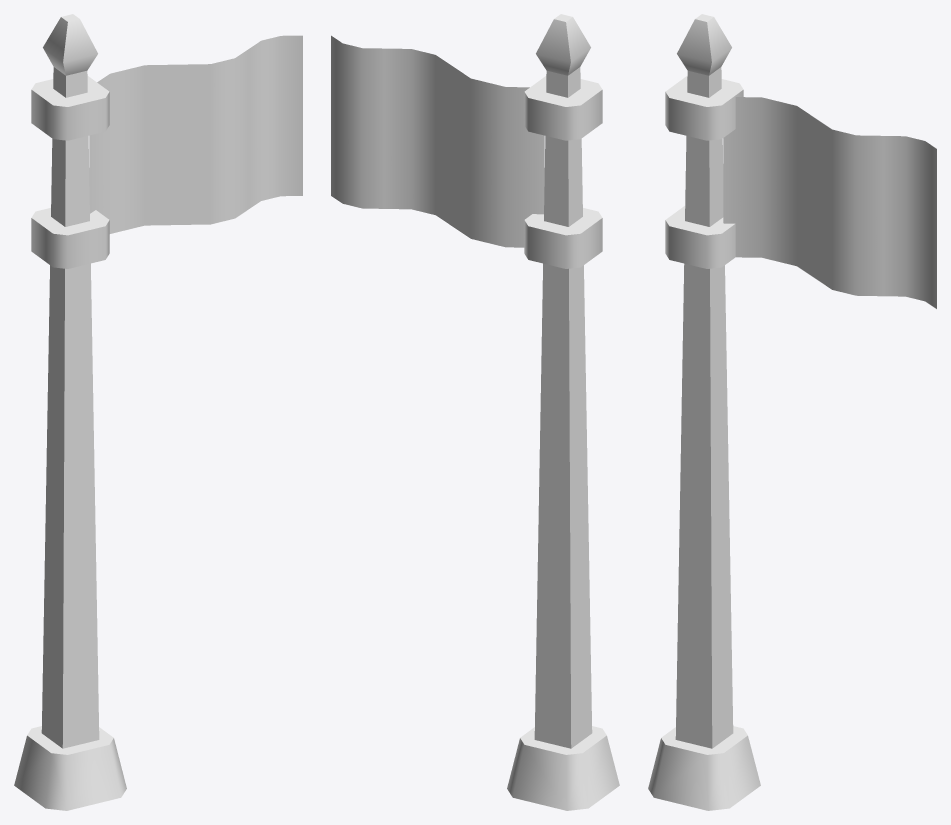
File: flag-high.glb
The picture shows the model from 3 angles, left to right: view 1: azimuth 30°, elevation 25°; view 2: azimuth 150°, elevation 25°; view 3: azimuth 330°, elevation 25°; orthographic projection.
Visible parts, largest first — view 1: flag-high; view 2: flag-high; view 3: flag-high.
Boxes of the visible parts, box(x1,y1,x2,y2) form: flag-high: box(14, 14, 302, 810); flag-high: box(331, 14, 619, 810); flag-high: box(648, 14, 936, 810).
Bounding box in the file's own units: 1.34 × 3.6 × 0.3987.
1 material, 1 textured.
